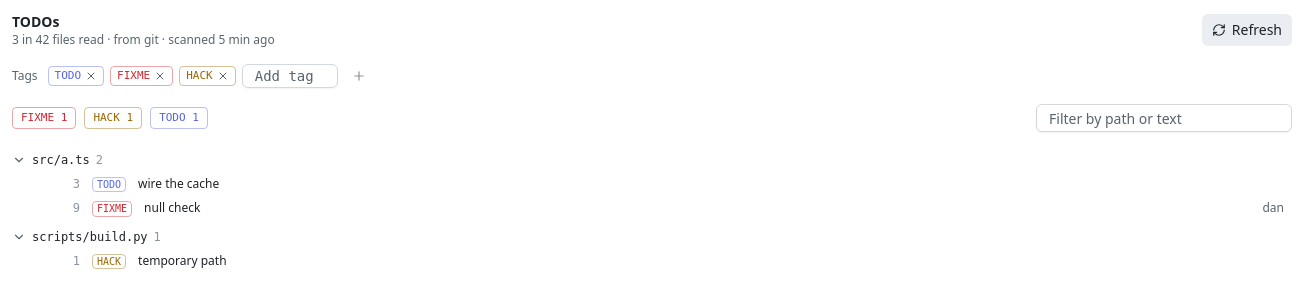
Test: TodosPanel › filters by tag and by text
Expected: the list named "Files with TODOs" is shown, left=12, top=148, right=1292, bottom=277
Click the button "HACK 1" at (113, 118), box left=84, top=107, right=142, bottom=129
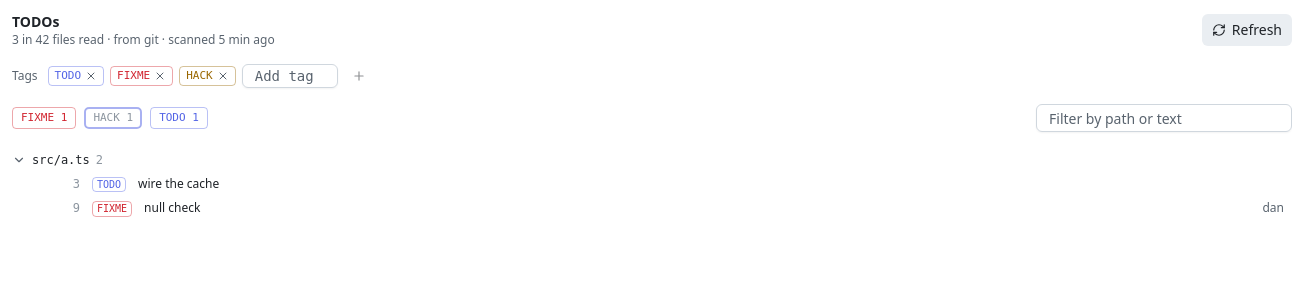
Result: the button "scripts/build.py" is gone
Type "cache" into the field named "Search TODOs" at (1164, 118), box left=1036, top=104, right=1292, bottom=132
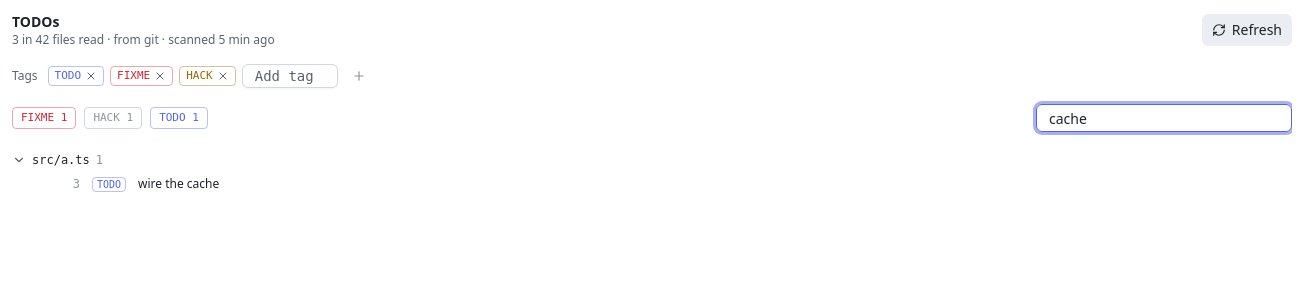
Result: the number of buttons "3 TODO wire the cache" is 1 at left=32, top=172, right=1292, bottom=196
Result: the button "null check" is gone
